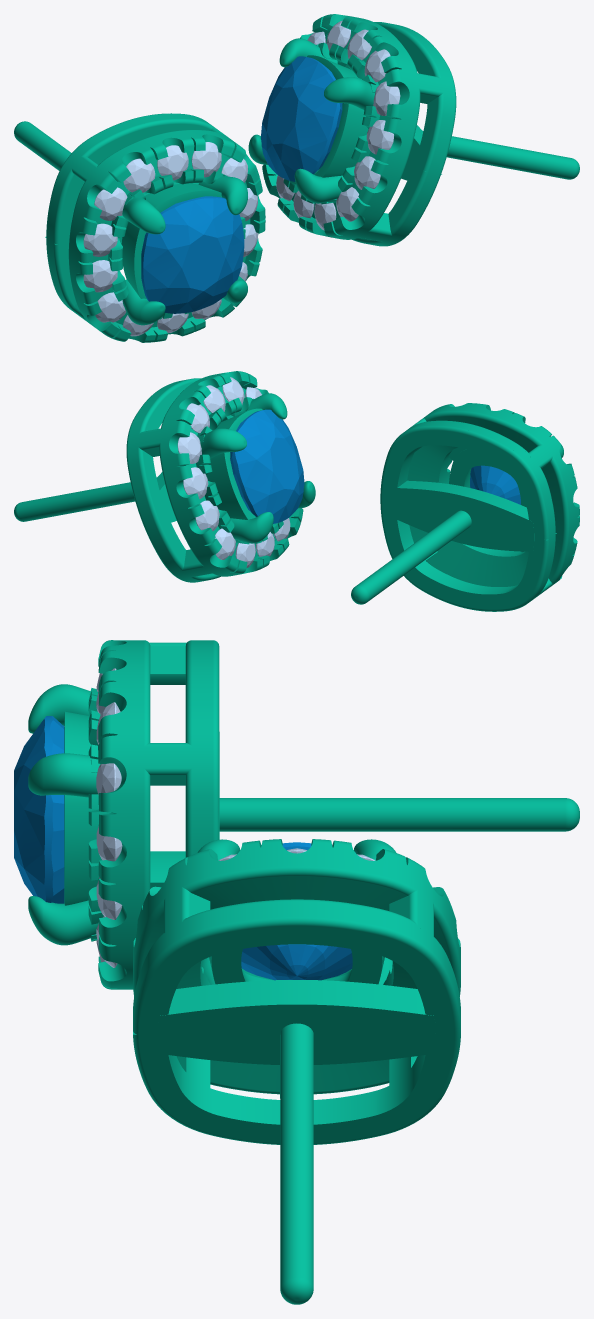
The picture shows the model from 3 angles, top to bottom: view 1: azimuth 30°, elevation 25°; view 2: azimuth 150°, elevation 25°; view 3: azimuth 270°, elevation 25°; orthographic projection. The views are drawn at different scales.
Parts seen in each view (by area): view 1: VEAR696.3dm, Diamond_Cushion (×2), Diamond_Round (×17), Head Prong (×6), Bezel (×2); view 2: VEAR696.3dm, Diamond_Cushion (×2), Diamond_Round (×8), Bezel (×2), Head Prong (×3); view 3: VEAR696.3dm, Diamond_Cushion (×2), Head Prong (×3), Bezel (×2).
Boxes of the visible parts, x1,y1,x2,y2 form: VEAR696.3dm: (14, 14, 579, 342); Diamond_Cushion (×2): (141, 56, 342, 313); Diamond_Round (×17): (83, 20, 400, 333); Head Prong (×6): (122, 38, 375, 325); Bezel (×2): (121, 55, 368, 298); VEAR696.3dm: (14, 371, 579, 611); Diamond_Cushion (×2): (230, 409, 520, 523); Diamond_Round (×8): (177, 377, 255, 567); Bezel (×2): (206, 408, 526, 525); Head Prong (×3): (200, 393, 287, 543); VEAR696.3dm: (88, 640, 579, 1304); Diamond_Cushion (×2): (14, 716, 352, 980); Head Prong (×3): (28, 684, 98, 945); Bezel (×2): (64, 711, 384, 984).
Size of the model in its own units: 3.32 by 1.17 by 1.89.
